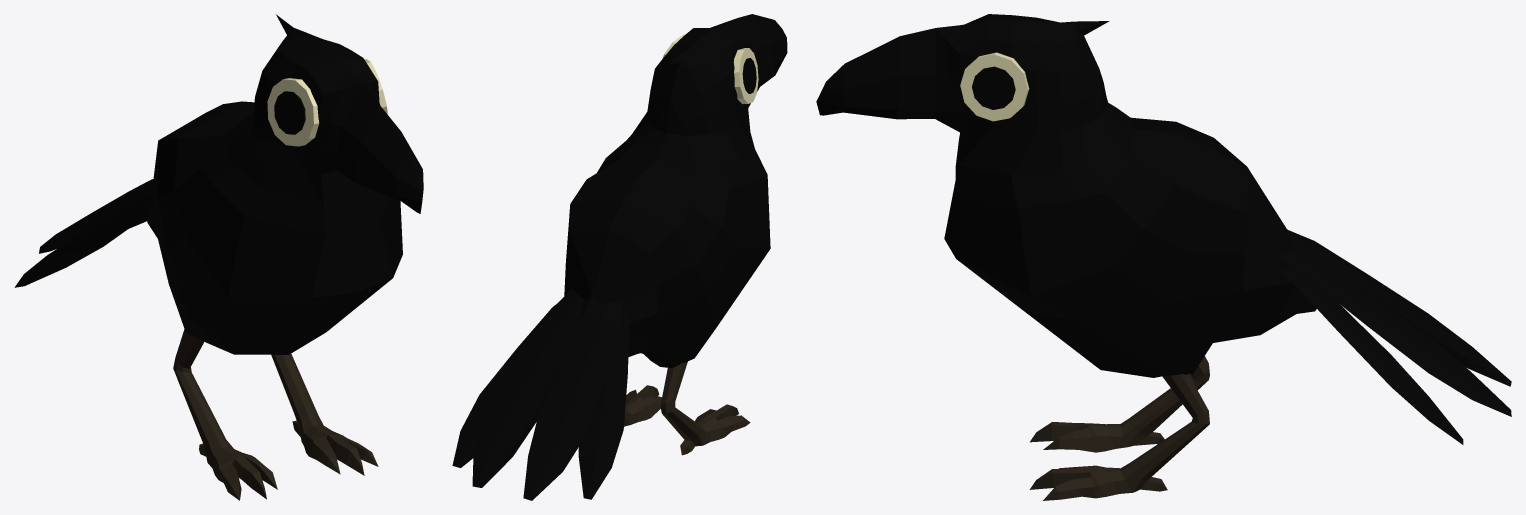
The model's file is Crow_noharness.fbx.
3 renders of one model, left to right at view 1: azimuth 30°, elevation 25°; view 2: azimuth 150°, elevation 25°; view 3: azimuth 270°, elevation 25°, orthographic. The views are drawn at different scales.
Visible parts, largest first — view 1: Plane; view 2: Plane; view 3: Plane.
Part boxes in pixels (x1,y1,x2,y2): Plane: (14,14,423,500); Plane: (452,14,787,500); Plane: (816,14,1511,500).
Size of the model in its own units: 47.2 by 109 by 153.
